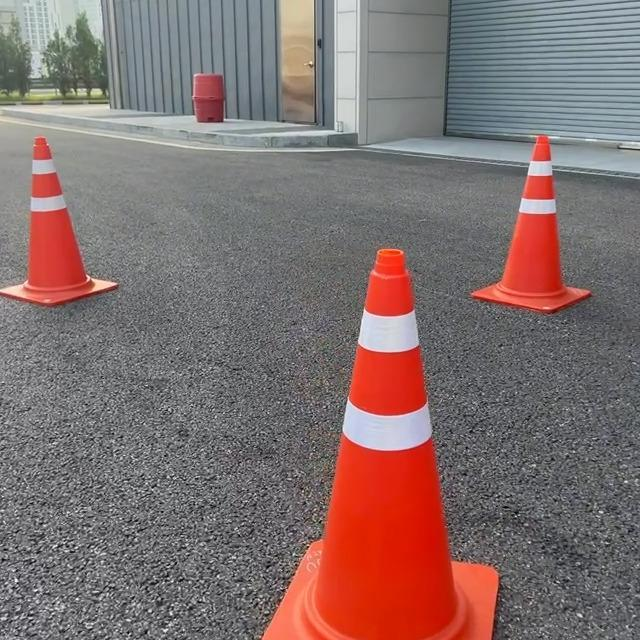fallen_object: (214, 204, 506, 640), (466, 103, 628, 271), (0, 112, 137, 300)
